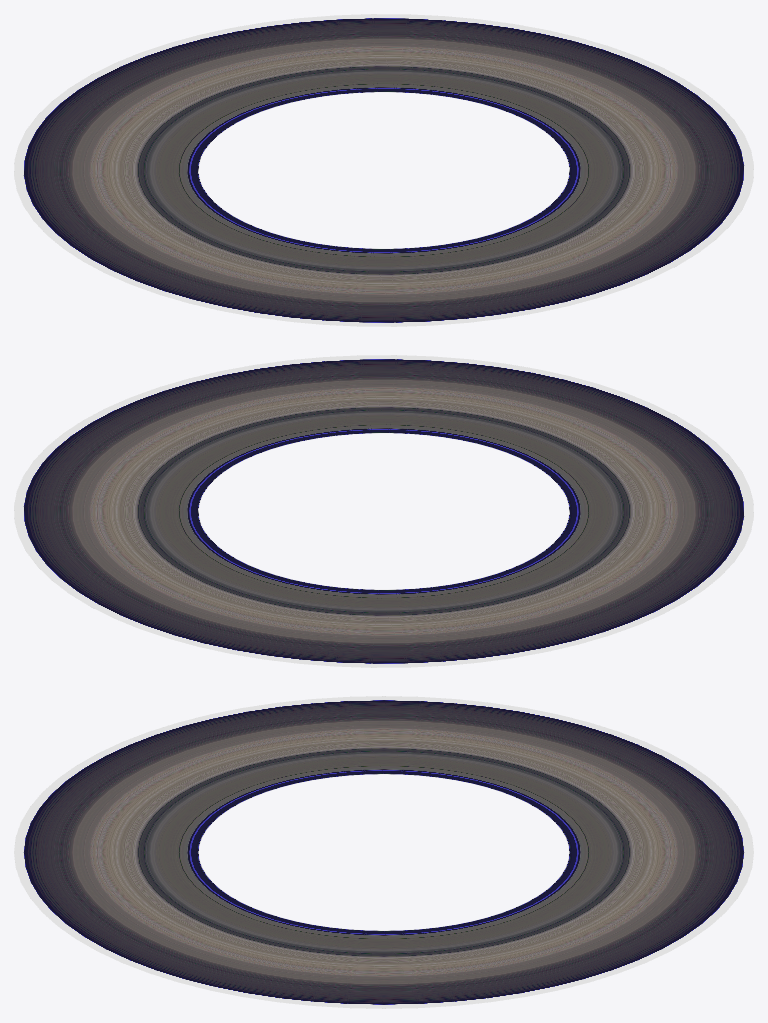
Rendered from RingUV.fbx.
The picture shows the model from 3 angles, top to bottom: view 1: azimuth 30°, elevation 25°; view 2: azimuth 150°, elevation 25°; view 3: azimuth 270°, elevation 25°; orthographic projection.
Parts seen in each view (by area): view 1: Ring; view 2: Ring; view 3: Ring.
Part boxes in pixels (left/top/right/bottom): Ring: left=14, top=14, right=753, bottom=326; Ring: left=14, top=355, right=753, bottom=667; Ring: left=14, top=696, right=753, bottom=1008.
Bounding box in the file's own units: 200 × 3.26e-05 × 200.
1 material, 1 textured.
